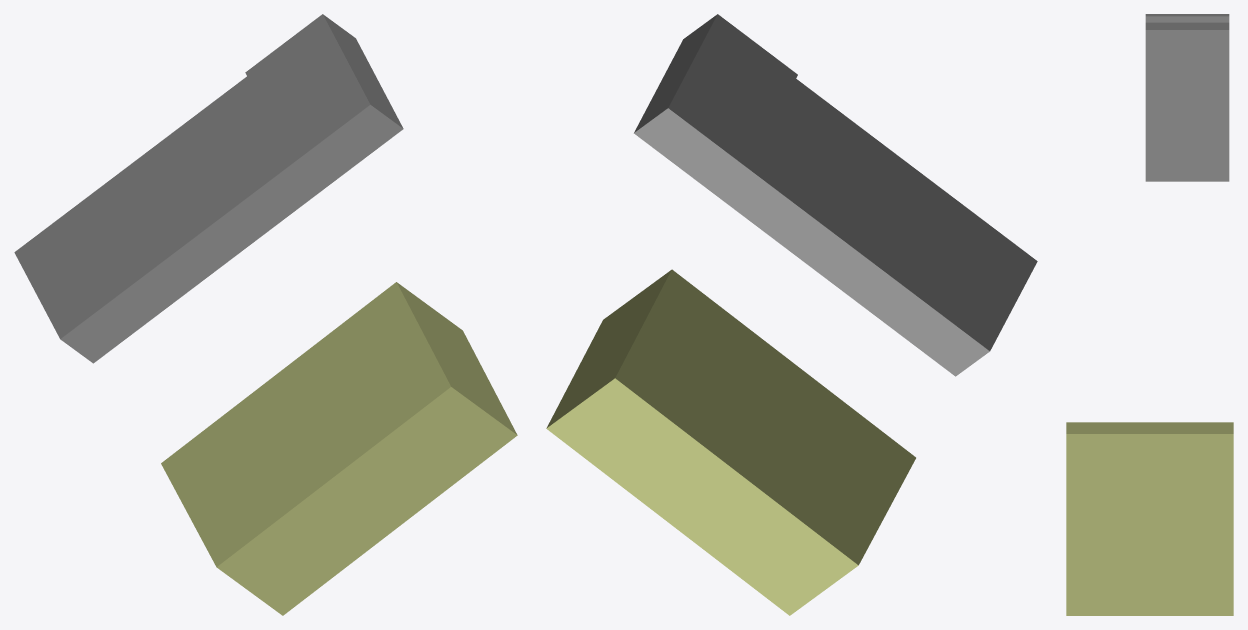
3 renders of one model, left to right at view 1: azimuth 30°, elevation 25°; view 2: azimuth 150°, elevation 25°; view 3: azimuth 270°, elevation 25°, orthographic. The views are drawn at different scales.
Parts seen in each view (by area): view 1: 0_1_1_3_2_1_3_3_2_3; view 2: 0_1_1_3_2_1_3_3_2_3; view 3: 0_1_1_3_2_1_3_3_2_3.
Boxes of the visible parts, left/top/right/bottom form: 0_1_1_3_2_1_3_3_2_3: left=14, top=14, right=517, bottom=615; 0_1_1_3_2_1_3_3_2_3: left=546, top=14, right=1037, bottom=615; 0_1_1_3_2_1_3_3_2_3: left=1066, top=14, right=1233, bottom=615.
Bounding box in the file's own units: 22.88 × 26.37 × 6.
